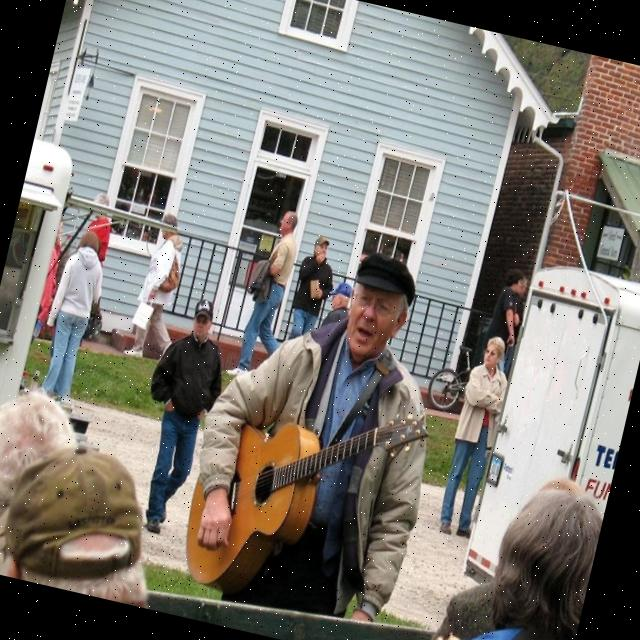guitar: (171, 366, 434, 628)
